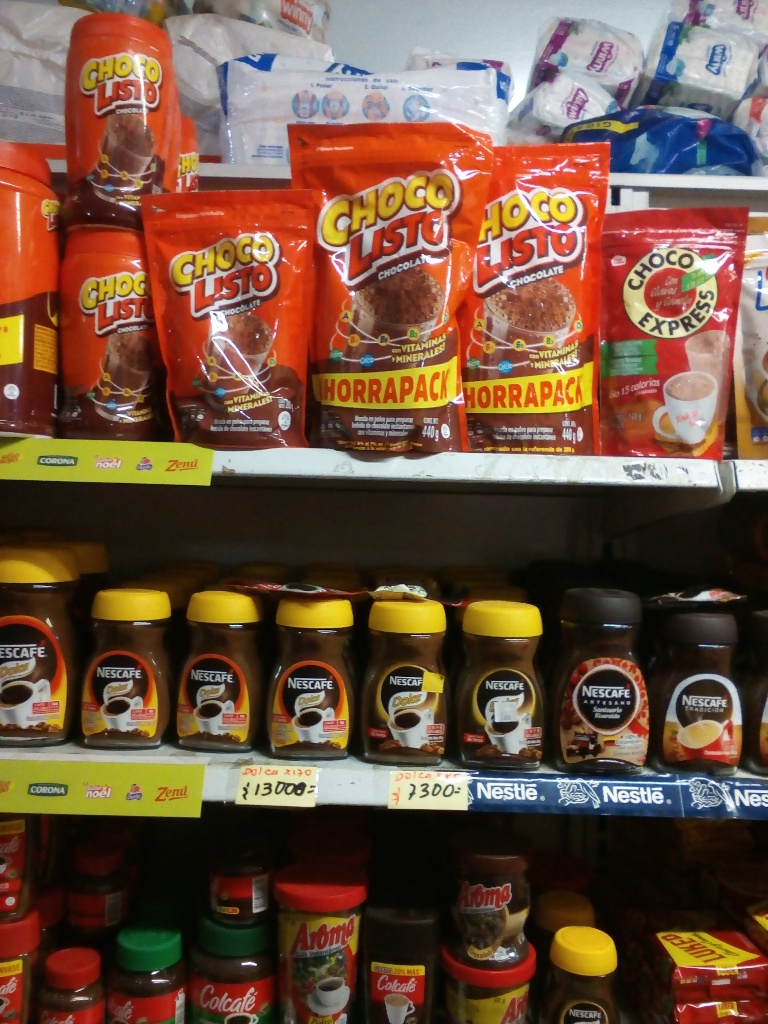COL0170103DYP44000: (294, 124, 486, 451)
COL0170103TRR00100: (1, 137, 67, 435)
